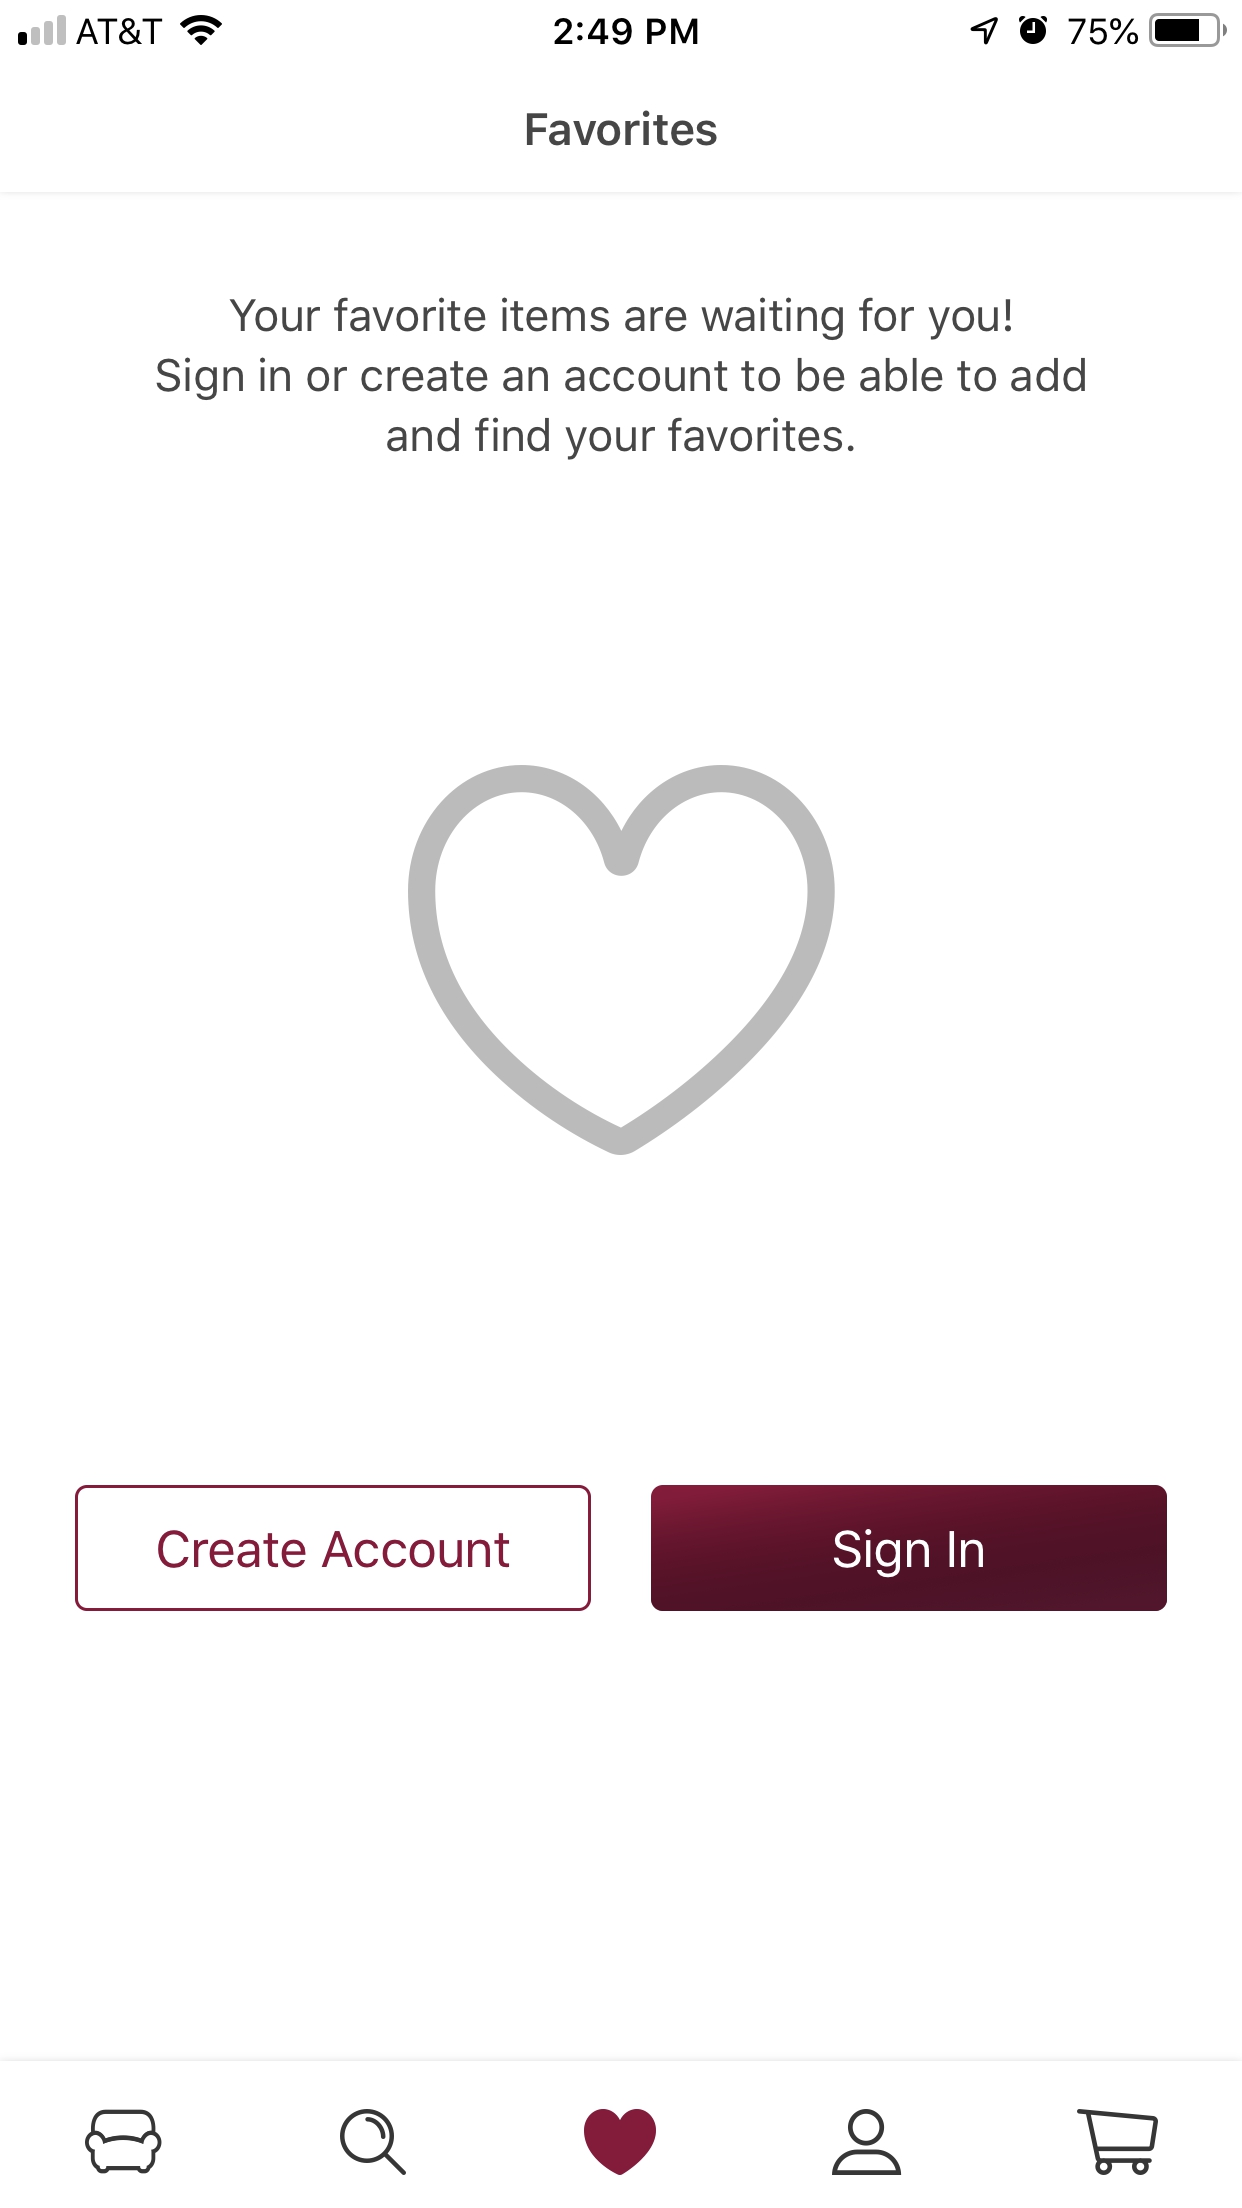Icon: (406, 764, 836, 1156), (1077, 2108, 1159, 2176), (582, 2108, 657, 2176), (831, 2108, 902, 2176), (340, 2108, 408, 2176)
Image: (83, 2109, 162, 2175)
Text: (156, 299, 1086, 463), (528, 111, 717, 147)
TextButton: (74, 1485, 591, 1612), (651, 1485, 1168, 1612)
UpperTaskBar: (2, 2, 1242, 49)
